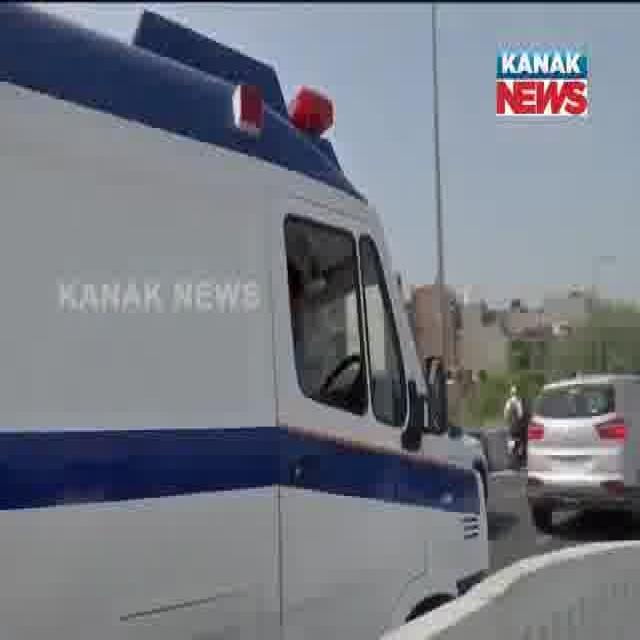ambulance: (1, 3, 502, 640)
